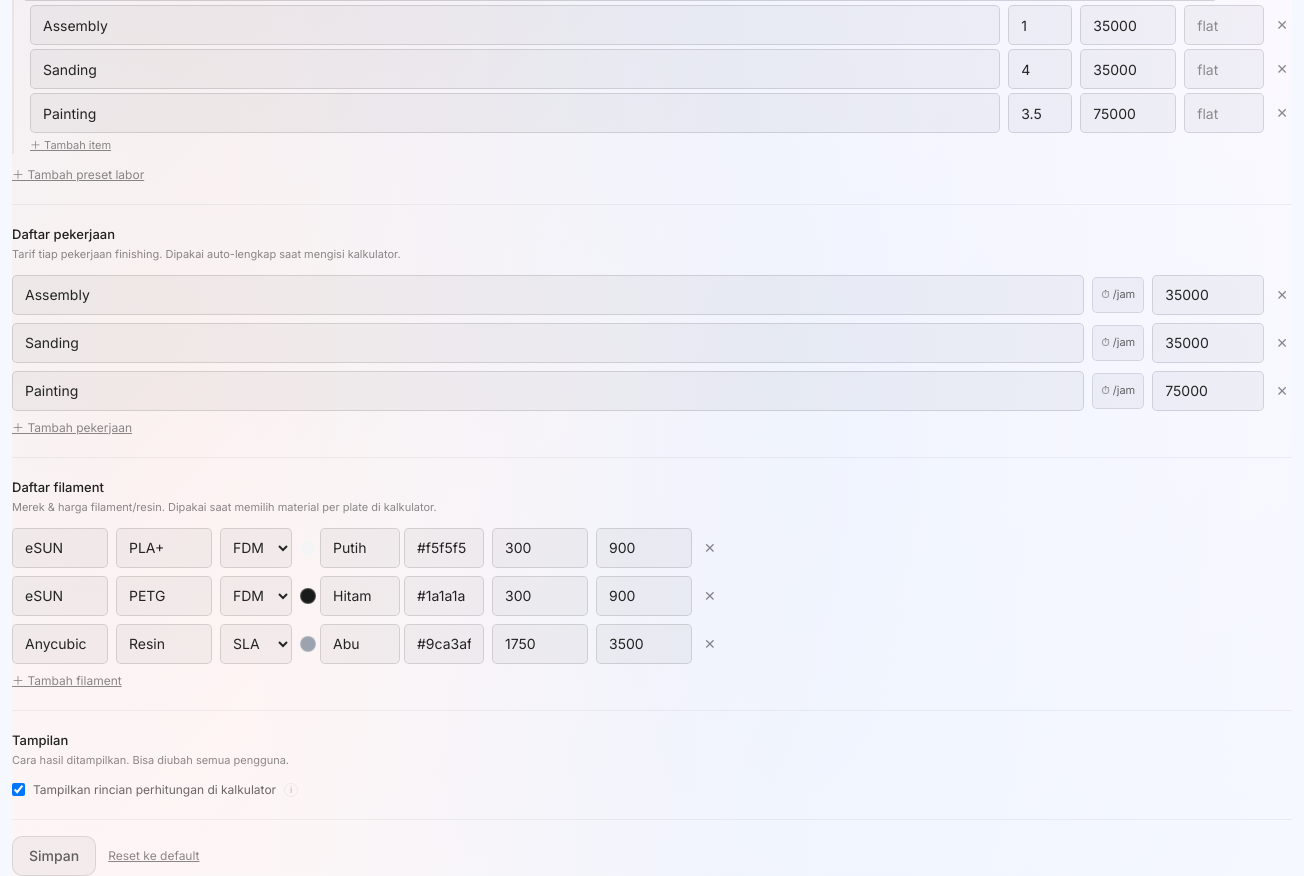
1b-6a Daftar filament › Pro: render section + tambah/hapus filament
The image size is (1304, 876).
(page scrolled)
Expected: the heading "Daftar filament" is shown, left=12, top=478, right=104, bottom=494
Expected: the 8th field with placeholder "Brand" is shown, left=12, top=528, right=108, bottom=568
Click the button "＋ Tambah filament": [67, 680] box left=12, top=672, right=122, bottom=690
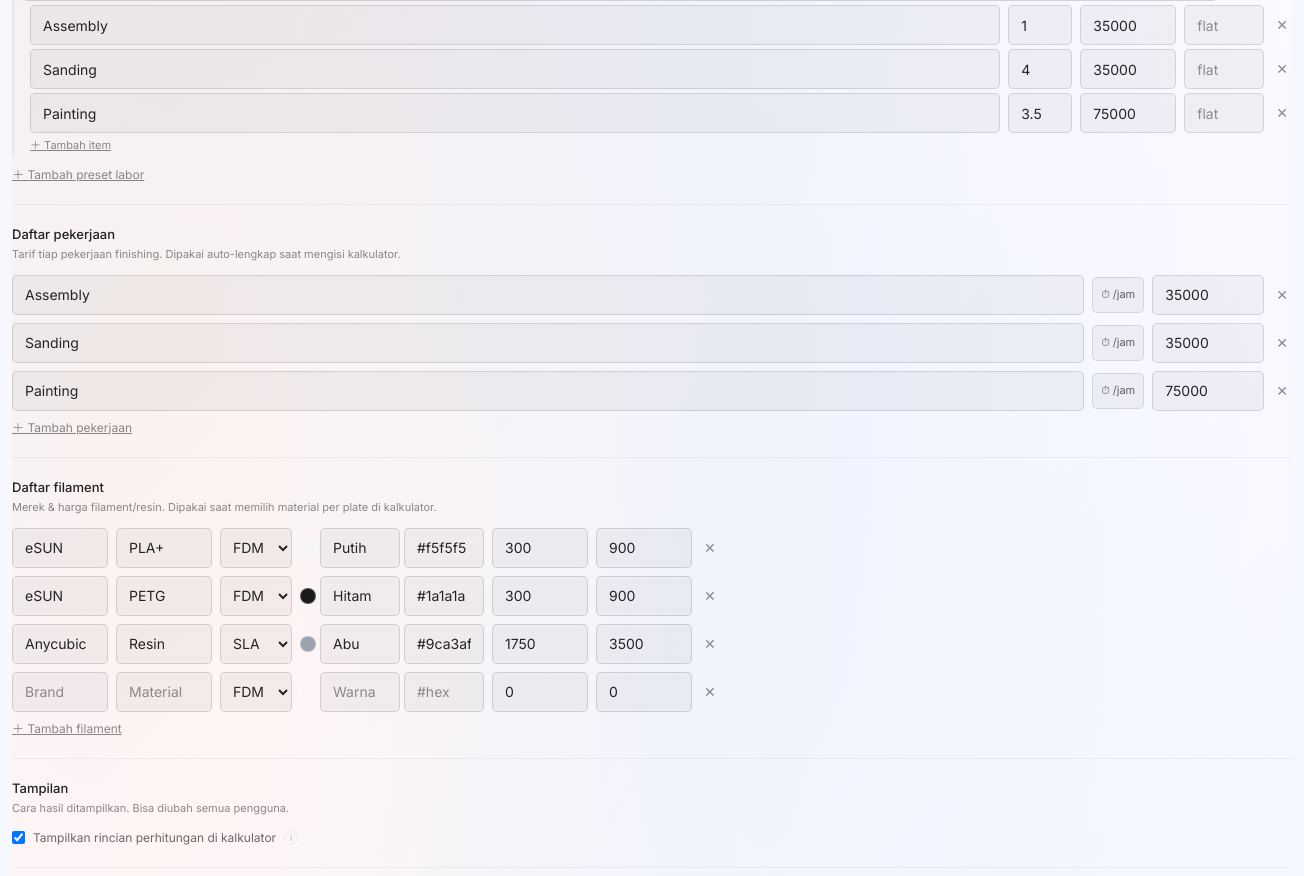
Result: the number of fields with placeholder "Brand" is 4 at left=12, top=528, right=108, bottom=568; left=12, top=576, right=108, bottom=616; left=12, top=624, right=108, bottom=664; left=12, top=672, right=108, bottom=712
Click the button named "Hapus filament": [710, 692] box left=700, top=682, right=720, bottom=702
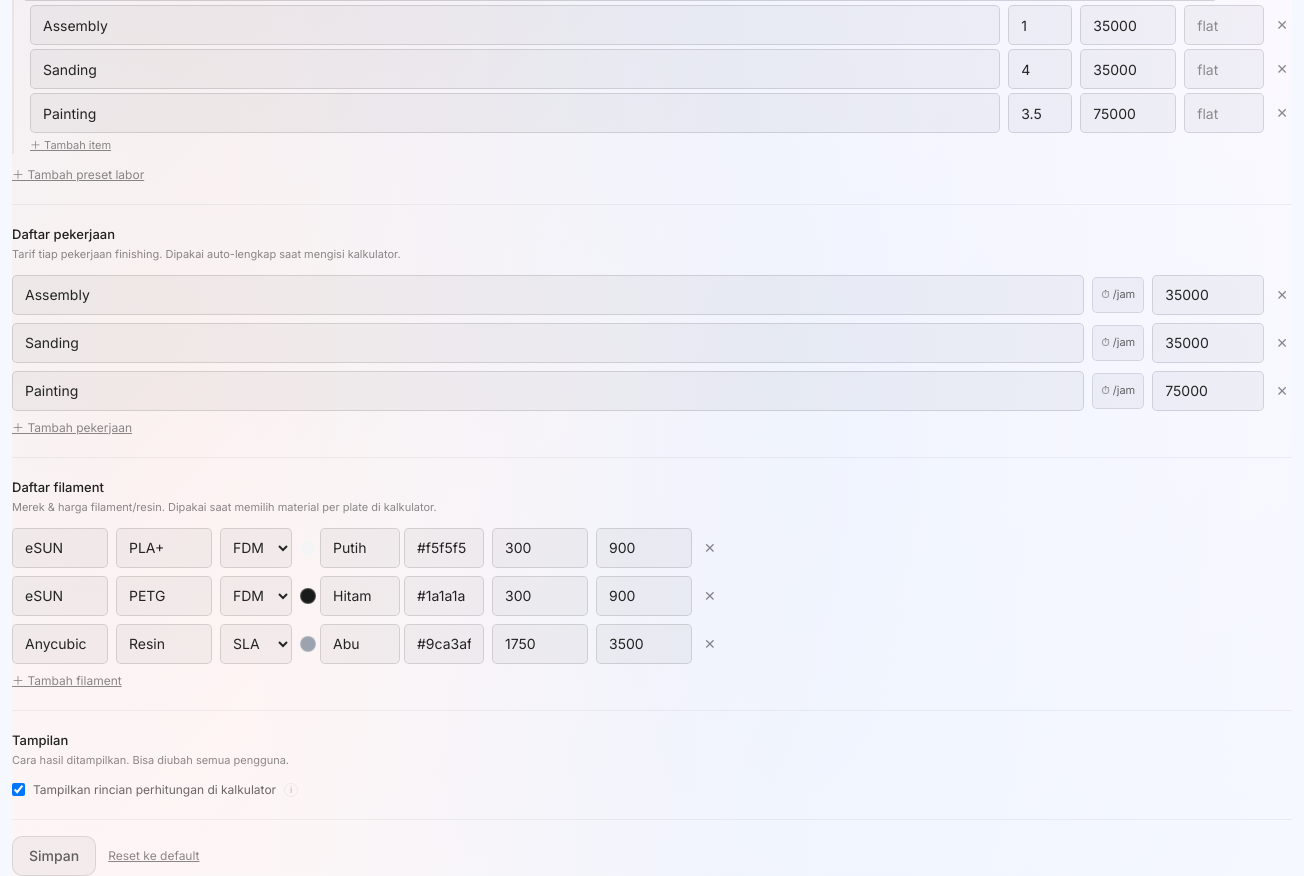
Result: the number of fields with placeholder "Brand" is 3 at left=12, top=528, right=108, bottom=568; left=12, top=576, right=108, bottom=616; left=12, top=624, right=108, bottom=664
